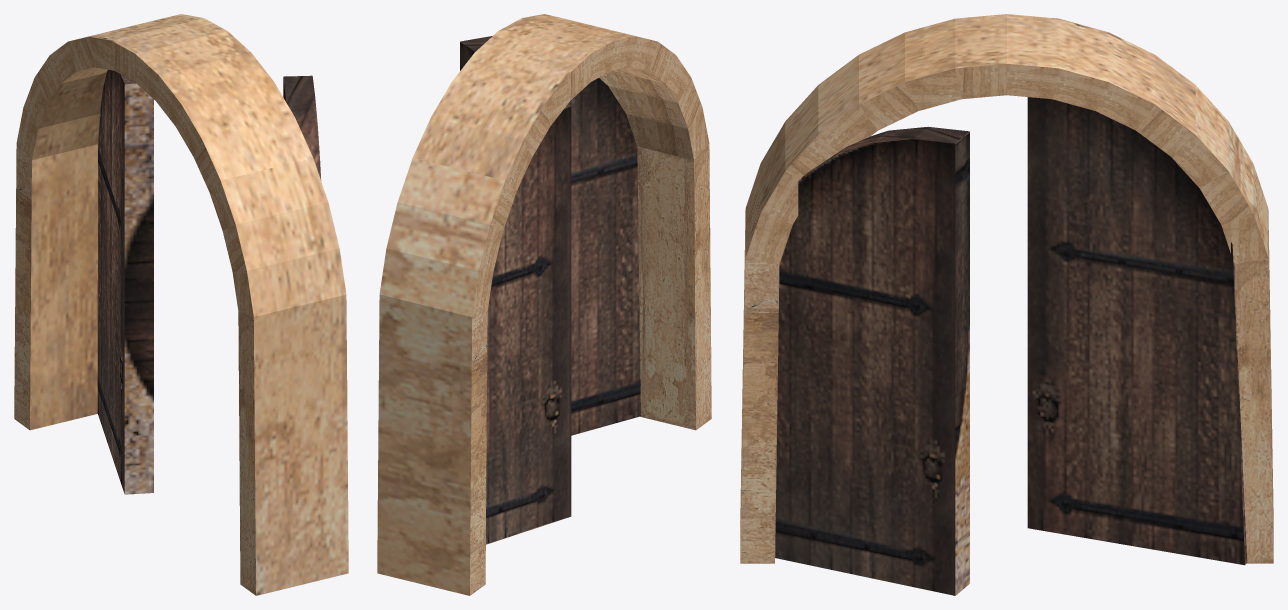
Rendered from porta-meio.obj.
The picture shows the model from 3 angles, left to right: view 1: azimuth 30°, elevation 25°; view 2: azimuth 150°, elevation 25°; view 3: azimuth 270°, elevation 25°; orthographic projection. The views are drawn at different scales.
Parts seen in each view (by area): view 1: Circle, Circle_002_Circle_003, Circle_001_Circle_004; view 2: Circle, Circle_002_Circle_003, Circle_001_Circle_004; view 3: Circle_002_Circle_003, Circle_001_Circle_004, Circle.
Part boxes in pixels (bbox=[...]): Circle: bbox=[14, 14, 348, 595]; Circle_002_Circle_003: bbox=[97, 70, 153, 494]; Circle_001_Circle_004: bbox=[283, 75, 321, 180]; Circle: bbox=[377, 14, 711, 595]; Circle_002_Circle_003: bbox=[486, 104, 571, 544]; Circle_001_Circle_004: bbox=[460, 36, 640, 435]; Circle_002_Circle_003: bbox=[1027, 97, 1247, 565]; Circle_001_Circle_004: bbox=[775, 126, 969, 595]; Circle: bbox=[740, 14, 1273, 563].
Size of the model in its own units: 22.36 by 62.87 by 60.77.
Materials: 2 (2 with a texture image).
